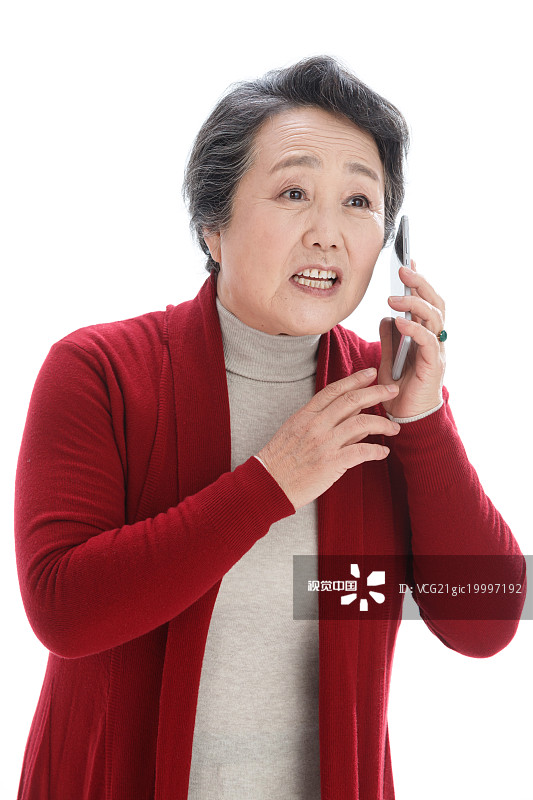calling: (361, 227, 482, 432)
no-phone: (251, 364, 405, 504)
